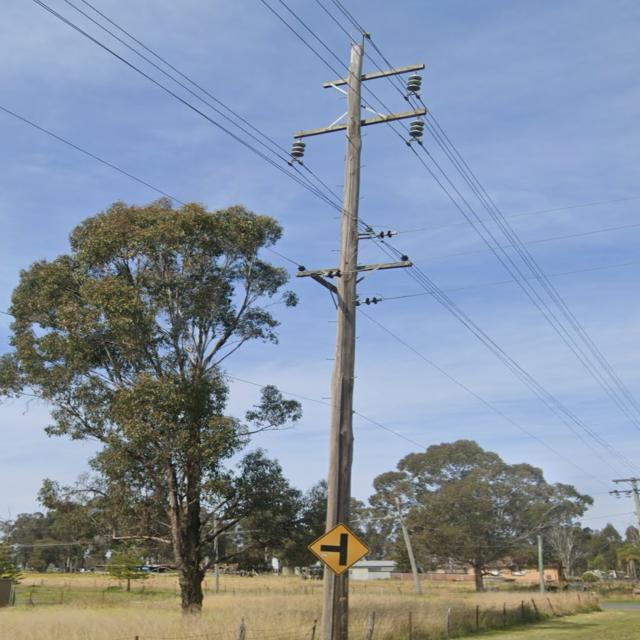HV-transmission: (288, 32, 427, 166), (320, 226, 398, 306), (608, 489, 632, 498)
crossarm: (293, 108, 428, 138), (324, 62, 426, 88), (295, 260, 413, 278), (310, 272, 337, 294), (609, 489, 640, 494), (612, 478, 640, 482)
timber-pole: (321, 46, 362, 640), (632, 477, 640, 536)
